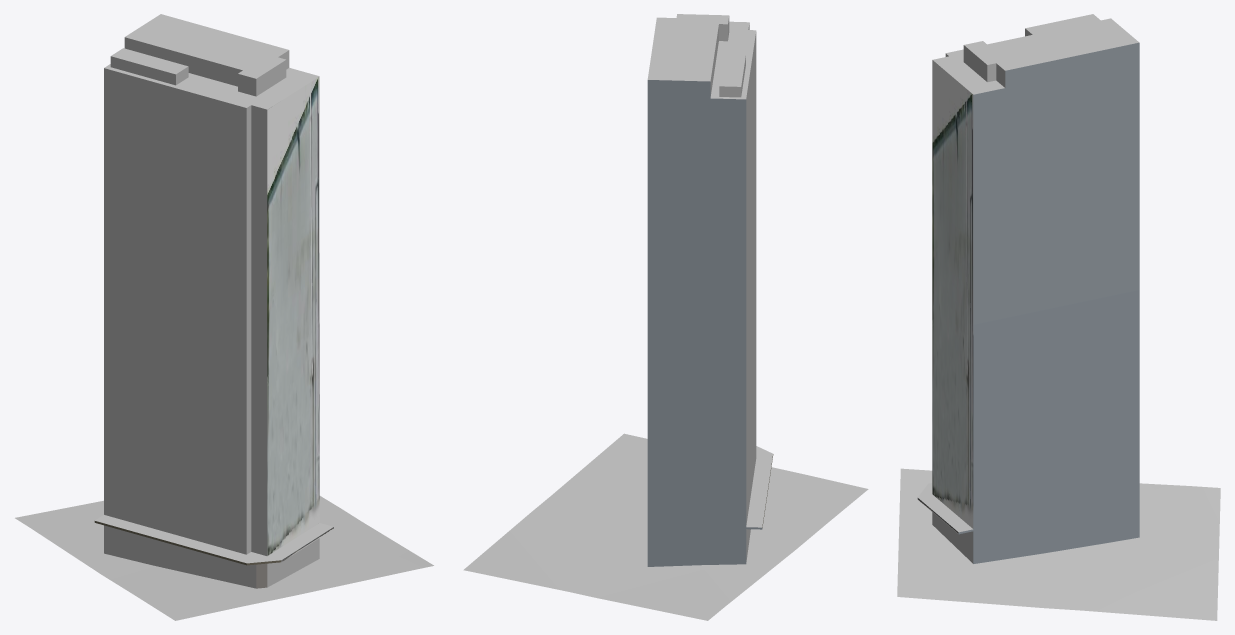
File: Edifício+centro+1.fbx
The picture shows the model from 3 angles, left to right: view 1: azimuth 30°, elevation 25°; view 2: azimuth 150°, elevation 25°; view 3: azimuth 270°, elevation 25°; orthographic projection. The views are drawn at different scales.
Visible parts, largest first — view 1: Model, Google_Earth_Terrain; view 2: Model, Google_Earth_Terrain; view 3: Model, Google_Earth_Terrain.
Boxes of the visible parts, x1=… form: Model: x1=94, y1=14, x2=333, y2=588; Google_Earth_Terrain: x1=15, y1=496, x2=433, y2=620; Model: x1=647, y1=14, x2=773, y2=566; Google_Earth_Terrain: x1=463, y1=433, x2=868, y2=620; Model: x1=917, y1=14, x2=1139, y2=563; Google_Earth_Terrain: x1=897, y1=468, x2=1220, y2=620.
Size of the model in its own units: 53.56 by 102 by 59.12.
